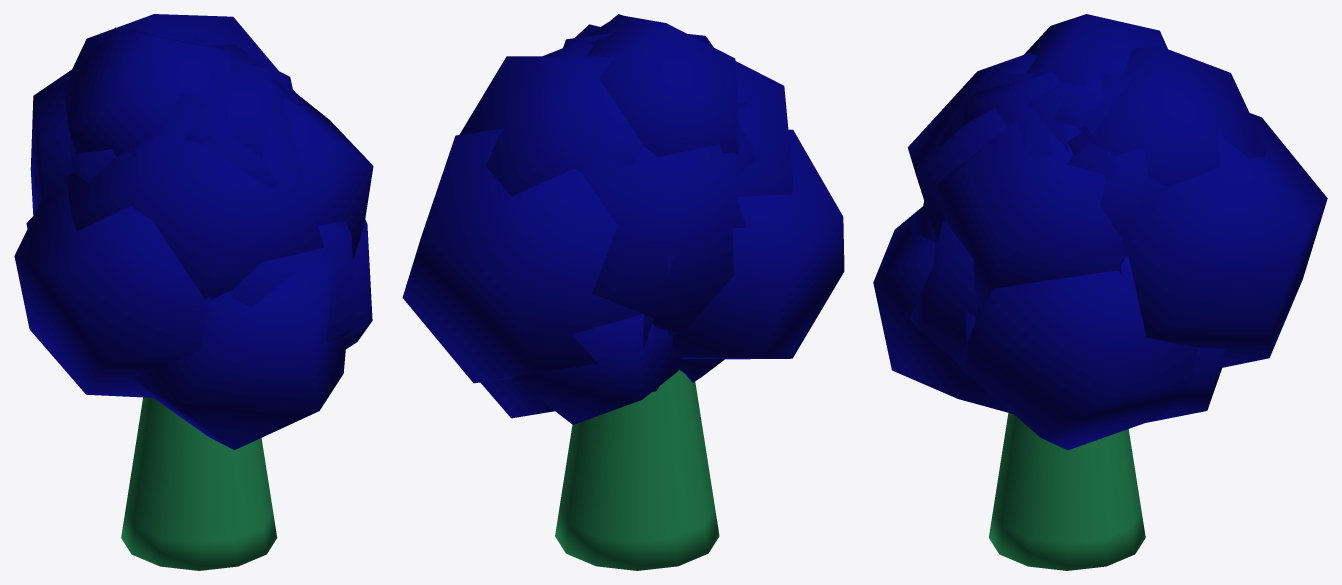
Rendered from MicaelTree.fbx.
3 views of the same model, side by side, from view 1: azimuth 30°, elevation 25°; view 2: azimuth 150°, elevation 25°; view 3: azimuth 270°, elevation 25° (orthographic). The views are drawn at different scales.
Visible parts, largest first — view 1: merge1; view 2: merge1; view 3: merge1.
Boxes of the visible parts, bbox=[...] form: merge1: bbox=[14, 14, 373, 570]; merge1: bbox=[402, 14, 844, 570]; merge1: bbox=[873, 14, 1327, 570].
Size of the model in its own units: 9.88 by 14.22 by 11.58.
